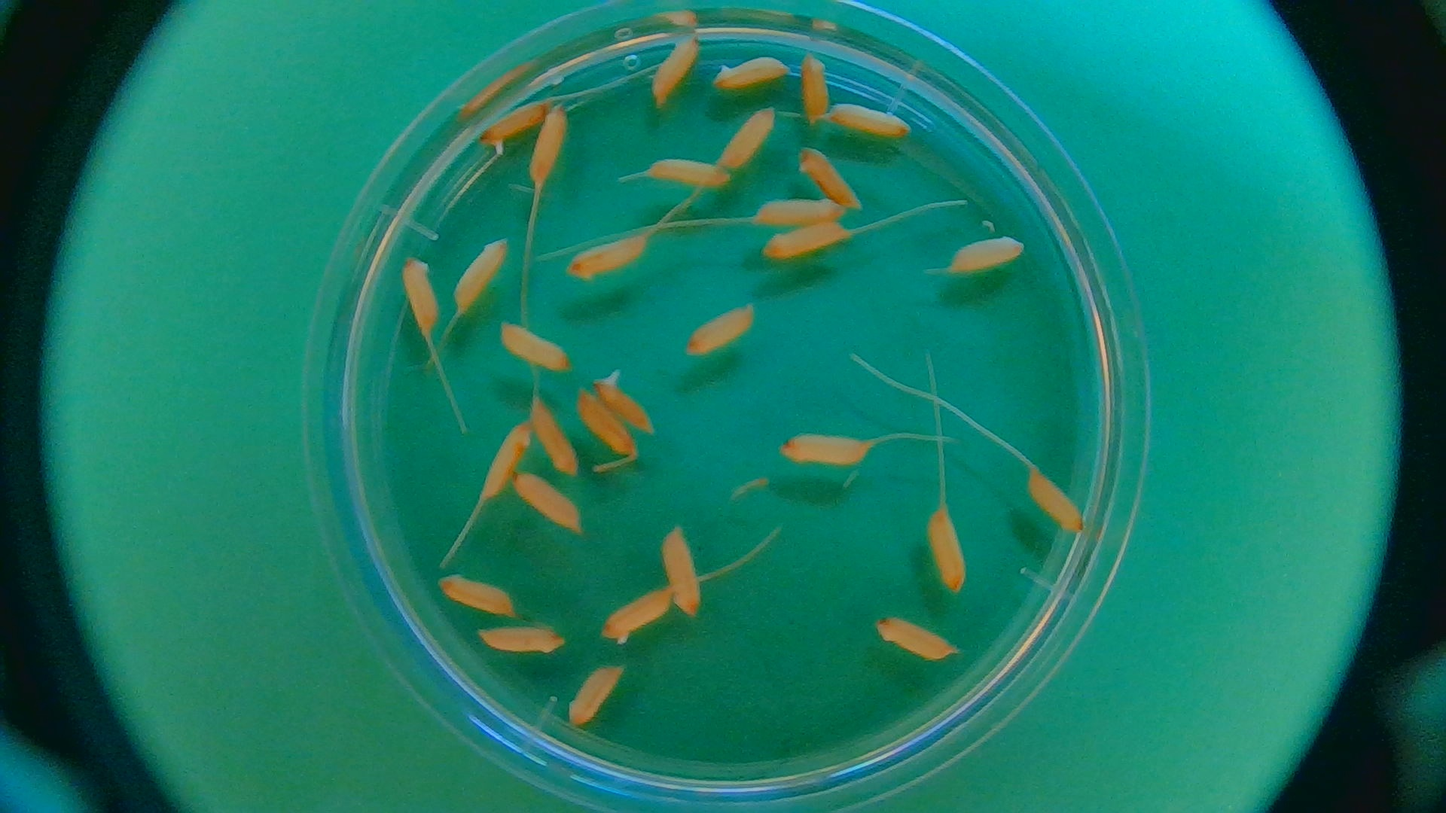no: (1020, 459, 1093, 540), (770, 425, 882, 473), (508, 467, 588, 533), (659, 526, 712, 620), (682, 301, 758, 365), (599, 586, 675, 648), (477, 422, 534, 502), (575, 387, 637, 458), (452, 236, 507, 316), (566, 663, 632, 729), (794, 144, 861, 209), (497, 316, 572, 374), (822, 99, 915, 145), (528, 394, 582, 473), (941, 233, 1032, 279), (569, 227, 645, 281), (719, 103, 778, 172), (924, 503, 969, 593), (433, 574, 519, 620), (765, 224, 862, 264), (873, 614, 952, 662), (401, 254, 447, 334), (750, 193, 846, 229), (527, 107, 569, 187), (647, 34, 695, 103), (645, 154, 733, 190), (795, 51, 834, 123), (712, 54, 789, 90), (474, 626, 566, 653)
yes: (474, 99, 554, 157), (590, 369, 654, 436)
